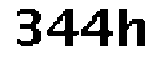3: (13, 8, 41, 48)
4: (43, 5, 81, 47), (82, 6, 115, 48)
h: (118, 7, 149, 51)
